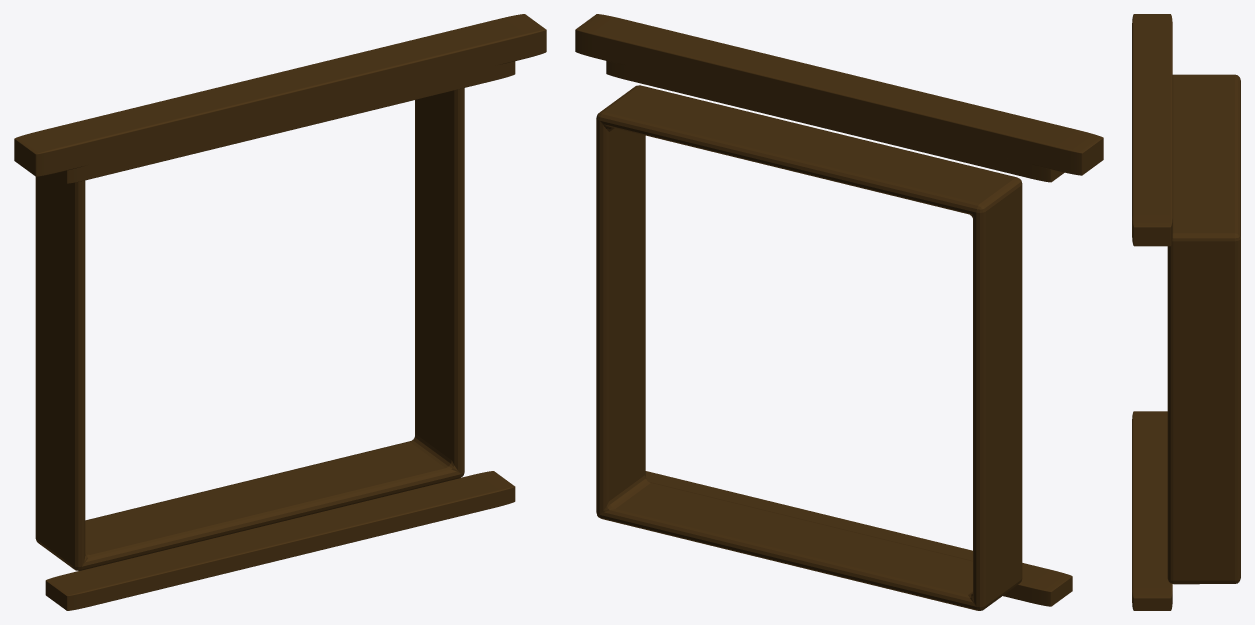
File: Window02.fbx
The picture shows the model from 3 angles, left to right: view 1: azimuth 30°, elevation 25°; view 2: azimuth 150°, elevation 25°; view 3: azimuth 270°, elevation 25°; orthographic projection. The views are drawn at different scales.
Visible parts, largest first — view 1: WindowFrame04, WindowFrame03, WindowFrame01, WindowFrame02; view 2: WindowFrame04, WindowFrame03, WindowFrame02, WindowFrame01; view 3: WindowFrame04, WindowFrame03, WindowFrame01.
Boxes of the visible parts, left/top/right/bottom form: WindowFrame04: left=35, top=88, right=464, bottom=570; WindowFrame03: left=14, top=14, right=546, bottom=176; WindowFrame01: left=45, top=471, right=515, bottom=610; WindowFrame02: left=54, top=61, right=515, bottom=183; WindowFrame04: left=596, top=85, right=1022, bottom=610; WindowFrame03: left=575, top=14, right=1103, bottom=175; WindowFrame02: left=606, top=61, right=1064, bottom=182; WindowFrame01: left=645, top=471, right=1072, bottom=606; WindowFrame04: left=1167, top=74, right=1240, bottom=584; WindowFrame03: left=1132, top=14, right=1172, bottom=246; WindowFrame01: left=1132, top=411, right=1172, bottom=610.
Size of the model in its own units: 73.15 by 63.78 by 15.77.
